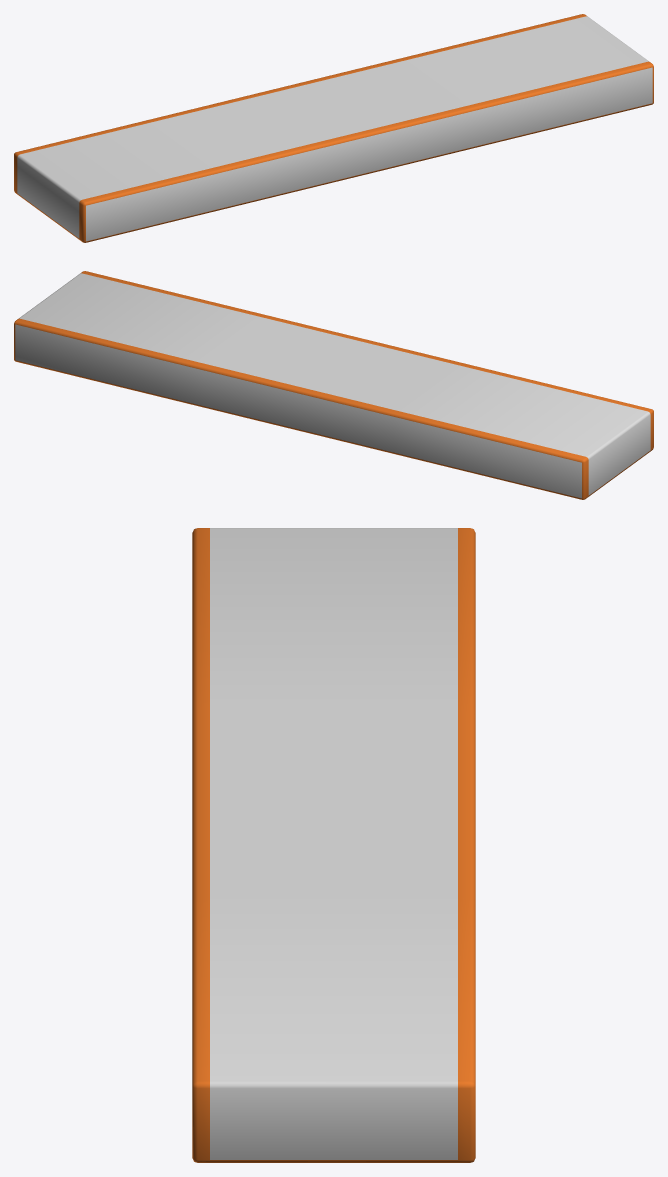
The model's file is ground.fbx.
3 renders of one model, top to bottom at view 1: azimuth 30°, elevation 25°; view 2: azimuth 150°, elevation 25°; view 3: azimuth 270°, elevation 25°, orthographic. The views are drawn at different scales.
Visible parts, largest first — view 1: Cube.003, Cube.002, Cube.001; view 2: Cube.003, Cube.002, Cube.001; view 3: Cube.001, Cube.002, Cube.003.
Boxes of the visible parts, x1=… form: Cube.003: x1=14, y1=106, x2=274, y2=242; Cube.002: x1=205, y1=60, x2=464, y2=196; Cube.001: x1=395, y1=14, x2=653, y2=150; Cube.003: x1=393, y1=363, x2=653, y2=499; Cube.002: x1=203, y1=317, x2=462, y2=453; Cube.001: x1=14, y1=271, x2=272, y2=407; Cube.001: x1=192, y1=897, x2=475, y2=1162; Cube.002: x1=192, y1=711, x2=475, y2=901; Cube.003: x1=192, y1=528, x2=475, y2=715.
Bounding box in the file's own units: 2931 × 200 × 630.
